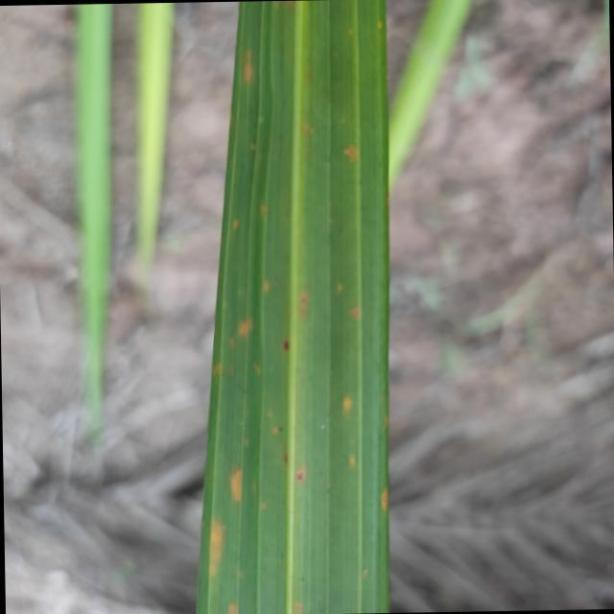Kalium: (191, 1, 385, 614)
